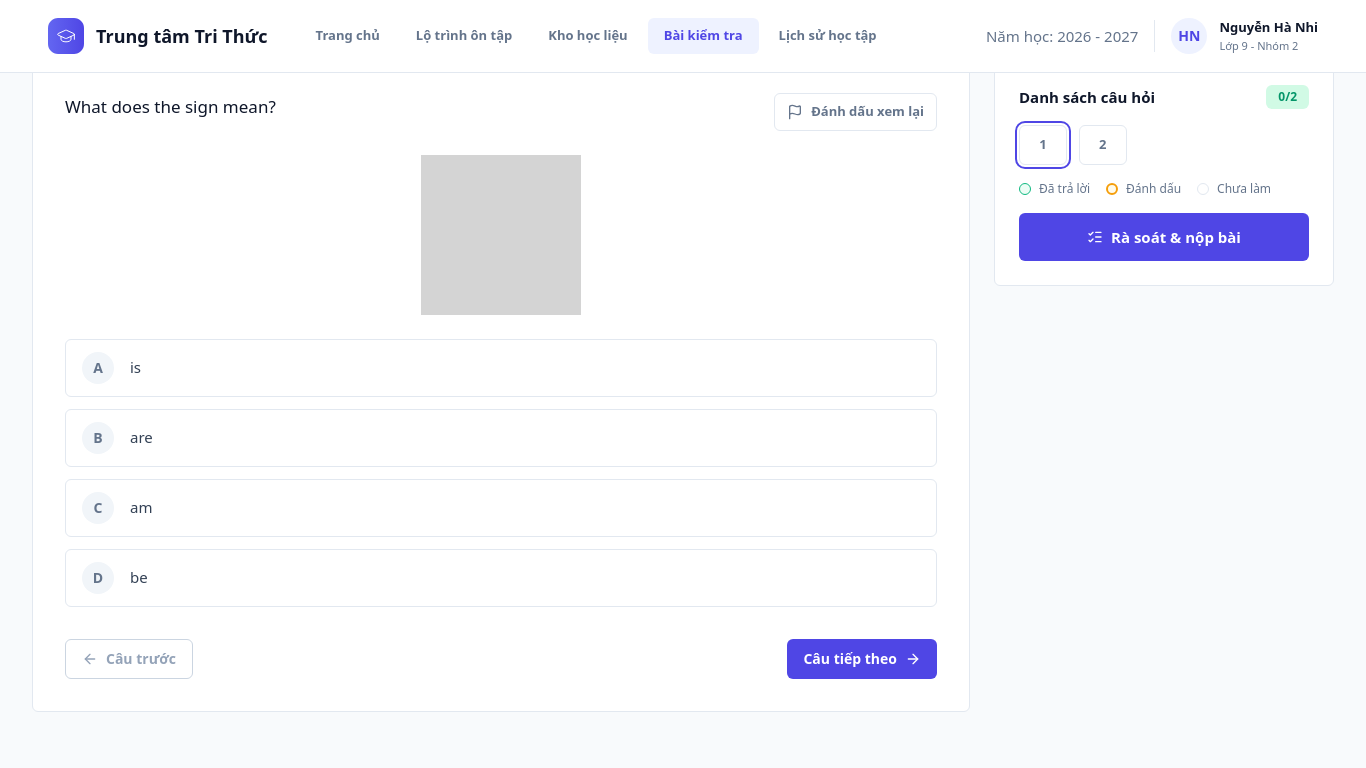
Test case: câu biển báo hiện ảnh, câu thông báo hiện khung chữ
(page scrolled)
Click the button "Câu tiếp theo": (862, 658) x1=787 y1=638 x2=937 y2=678
(page scrolled)
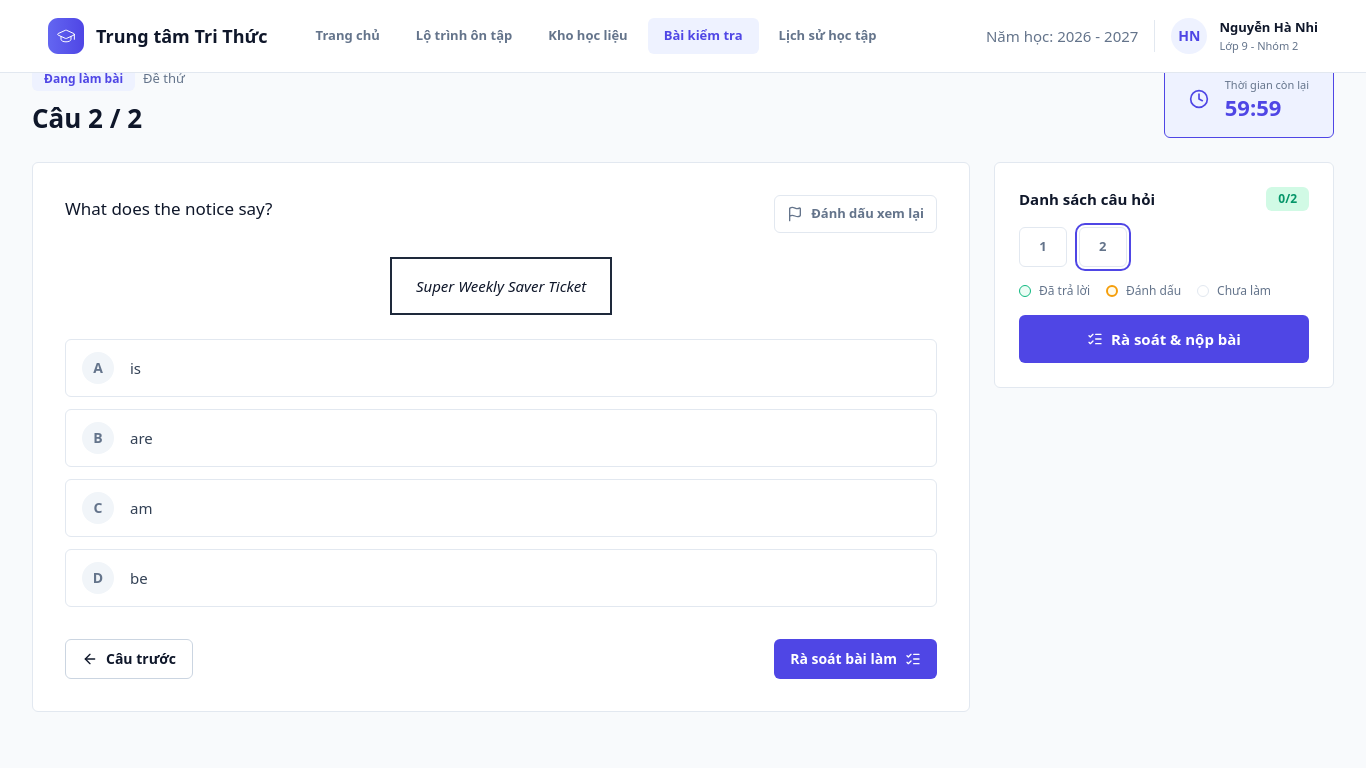
Expected: the text "Super Weekly Saver Ticket" is shown, x1=390 y1=256 x2=612 y2=315
